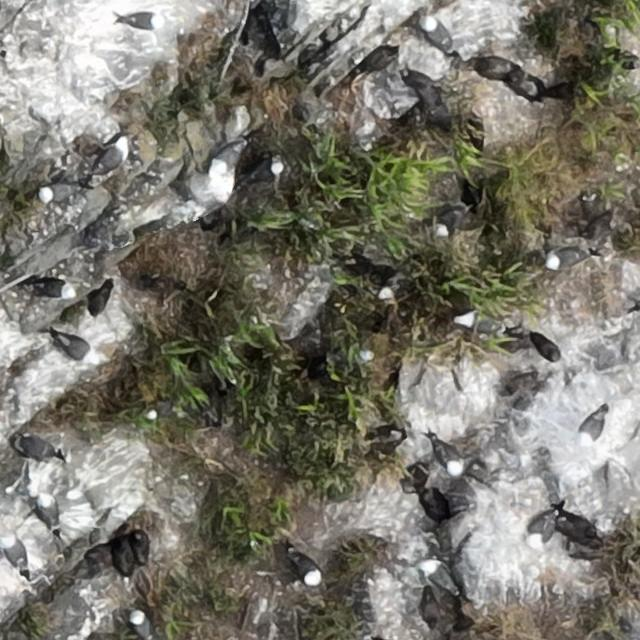umineko: (421, 16, 457, 54), (209, 140, 246, 176), (99, 138, 131, 179), (27, 278, 77, 301), (528, 514, 560, 547), (3, 534, 29, 573), (39, 182, 84, 204), (38, 492, 60, 534), (435, 207, 465, 236), (293, 554, 320, 586), (376, 272, 404, 301), (58, 336, 91, 359), (437, 442, 461, 473), (356, 326, 376, 361), (546, 250, 582, 269), (426, 564, 450, 592), (250, 160, 282, 180), (580, 412, 602, 441), (131, 612, 152, 639), (123, 14, 158, 29), (456, 310, 478, 326)
